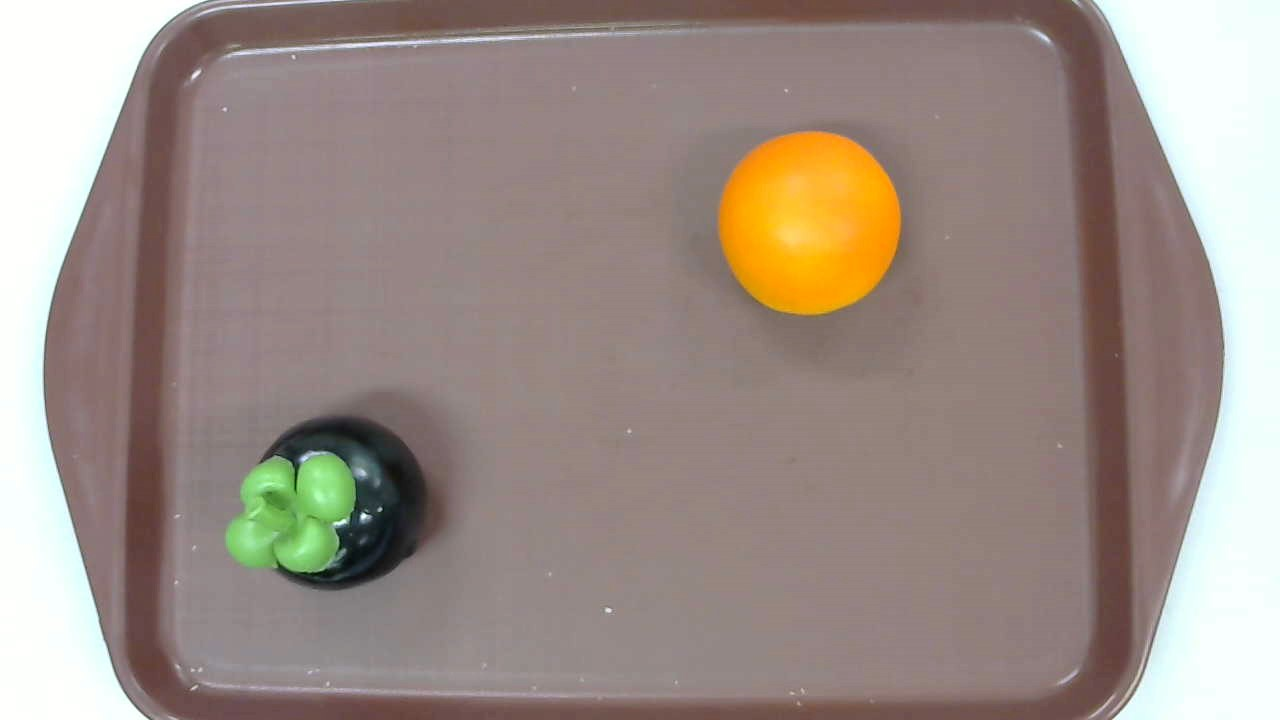bun: (718, 129, 901, 317)
mangosteen: (226, 413, 427, 590)
